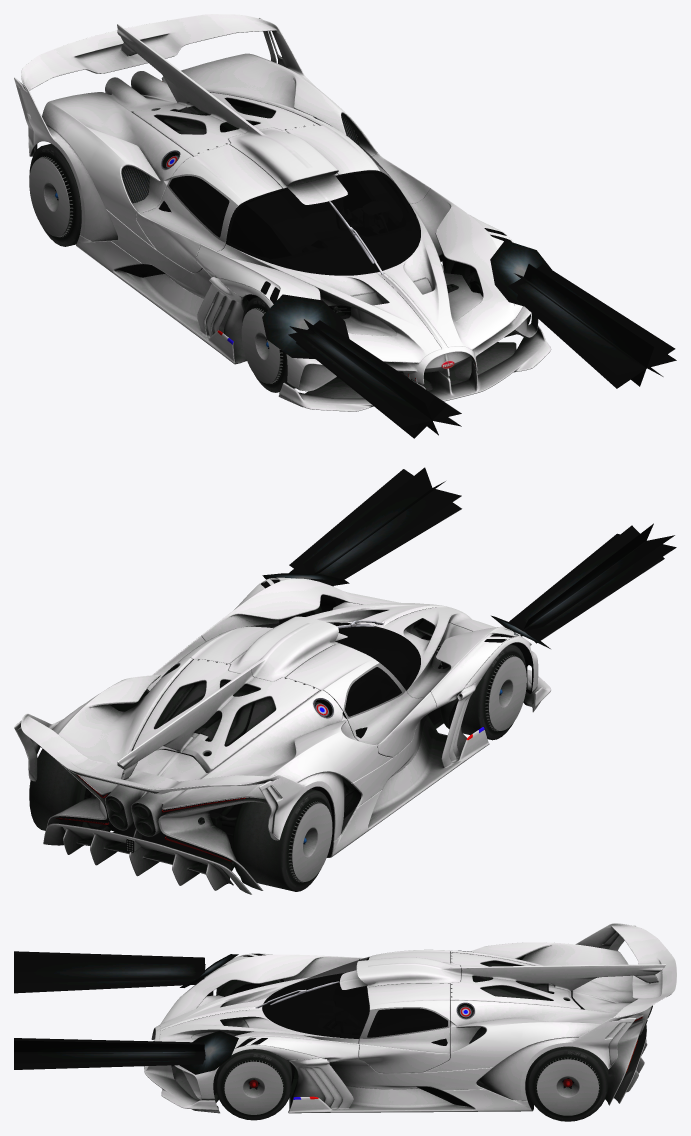
The model's file is Buggati.glb.
3 views of the same model, one above another, from view 1: azimuth 30°, elevation 25°; view 2: azimuth 150°, elevation 25°; view 3: azimuth 270°, elevation 25° (orthographic). The views are drawn at different scales.
Visible parts, largest first — view 1: chassis_pivot_carbone, chassis_pivot_carpaint, lights_position_front_and_back_pivot_glows, glasses_glass_window, chassis_pivot_deteils, chassis_pivot_rims, WheelBR_pivot_carbone, WheelFR_pivot_carbone, WheelBR_pivot_tyres, WheelFR_pivot_tyres; view 2: chassis_pivot_carbone, chassis_pivot_carpaint, lights_position_front_and_back_pivot_glows, chassis_pivot_deteils, glasses_glass_window, WheelBR_pivot_tyres, WheelBL_pivot_tyres, WheelBR_pivot_carbone, WheelFR_pivot_carbone, chassis_pivot_rims, WheelFR_pivot_tyres; view 3: chassis_pivot_carbone, chassis_pivot_carpaint, lights_position_front_and_back_pivot_glows, glasses_glass_window, WheelBL_pivot_carbone, WheelFL_carbone, chassis_pivot_deteils, WheelBL_pivot_tyres, WheelFL_tyres, chassis_pivot_rims, WheelBL_pivot_carpaint, WheelFR_pivot_tyres (+1 smaller).
Boxes of the visible parts, box(x1,y1,x2,y2) form: chassis_pivot_carbone: box(14, 14, 551, 411); chassis_pivot_carpaint: box(22, 24, 537, 389); lights_position_front_and_back_pivot_glows: box(262, 240, 676, 438); glasses_glass_window: box(167, 137, 420, 275); chassis_pivot_deteils: box(117, 105, 514, 377); chassis_pivot_rims: box(154, 104, 511, 380); WheelBR_pivot_carbone: box(30, 159, 68, 235); WheelFR_pivot_carbone: box(242, 310, 279, 382); WheelBR_pivot_tyres: box(29, 143, 81, 246); WheelFR_pivot_tyres: box(242, 297, 295, 392); chassis_pivot_carbone: box(14, 577, 551, 894); chassis_pivot_carpaint: box(41, 577, 531, 890); lights_position_front_and_back_pivot_glows: box(60, 467, 676, 860); chassis_pivot_deteils: box(56, 620, 484, 861); glasses_glass_window: box(197, 622, 420, 718); WheelBR_pivot_tyres: box(232, 789, 332, 891); WheelBL_pivot_tyres: box(29, 748, 110, 831); WheelBR_pivot_carbone: box(292, 804, 331, 880); WheelFR_pivot_carbone: box(489, 657, 526, 729); chassis_pivot_rims: box(120, 580, 533, 857); WheelFR_pivot_tyres: box(439, 644, 526, 740); chassis_pivot_carbone: box(144, 923, 676, 1113); chassis_pivot_carpaint: box(159, 927, 676, 1105); lights_position_front_and_back_pivot_glows: box(14, 951, 637, 1074); glasses_glass_window: box(262, 957, 449, 1038); WheelBL_pivot_carbone: box(537, 1060, 598, 1114); WheelFL_carbone: box(225, 1062, 282, 1114); chassis_pivot_deteils: box(252, 950, 652, 1107); WheelBL_pivot_tyres: box(527, 1046, 608, 1121); WheelFL_tyres: box(215, 1049, 291, 1120); chassis_pivot_rims: box(207, 955, 583, 1110); WheelBL_pivot_carpaint: box(536, 1057, 599, 1115); WheelFR_pivot_tyres: box(216, 979, 282, 996).
Bounding box in the file's own units: 0.0228 × 0.011 × 0.0593.
7 materials, 6 textured.
